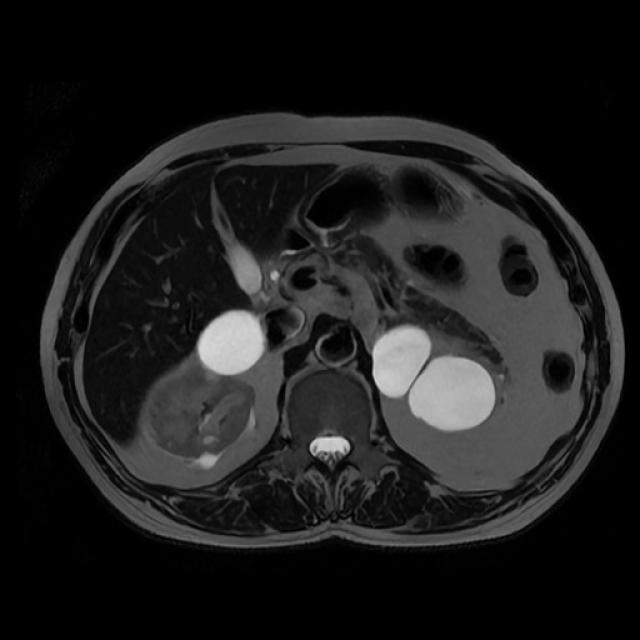sag: (150, 311, 268, 467)
sol: (374, 324, 495, 431)
